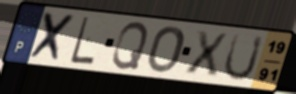L: (69, 15, 97, 67)
O: (145, 25, 186, 75)
Q: (110, 20, 150, 71)
U: (221, 31, 266, 83)
X: (27, 10, 79, 64), (183, 29, 230, 78)
